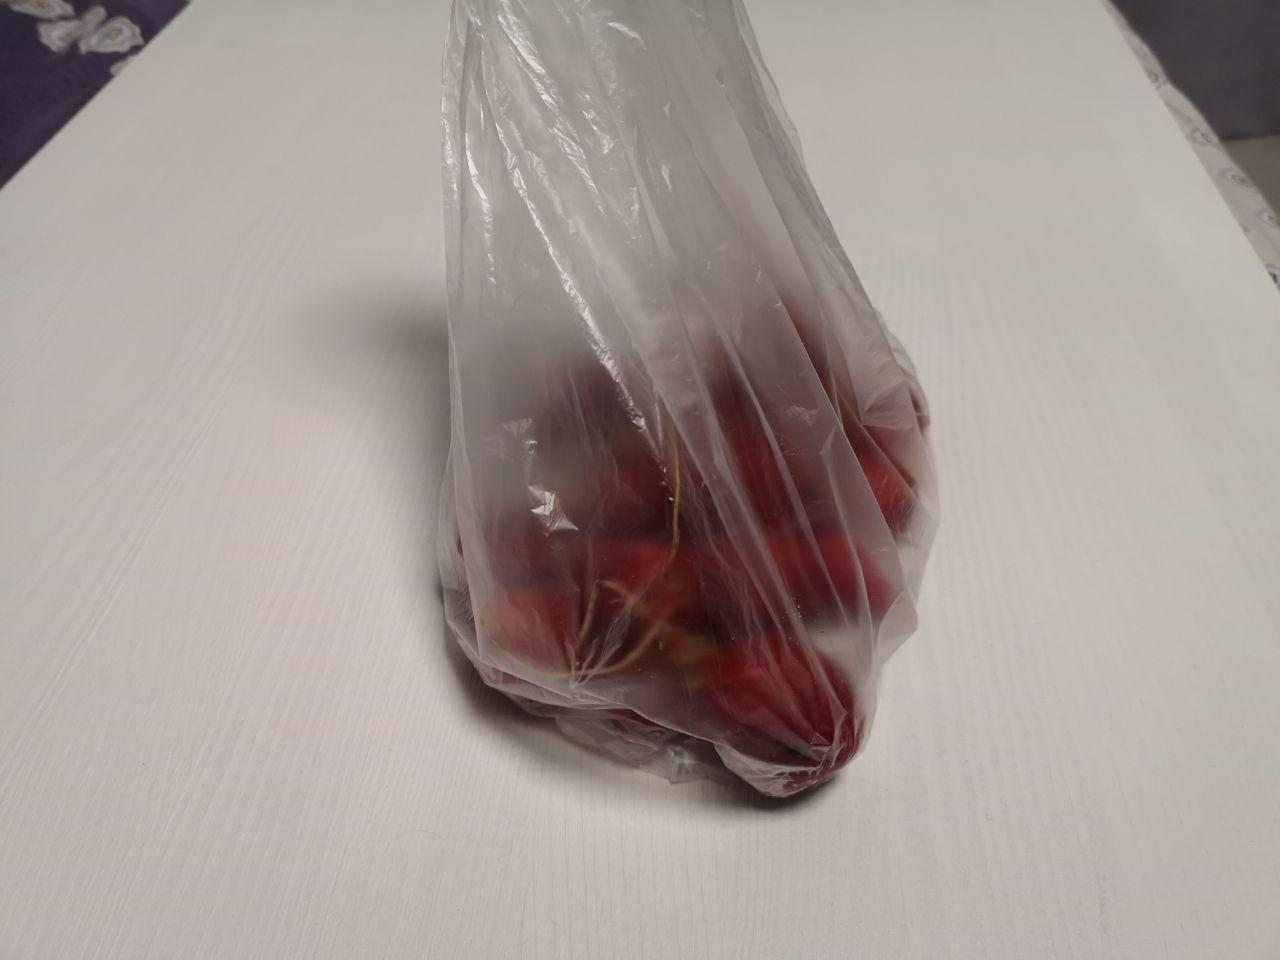redish: (395, 213, 959, 810)
